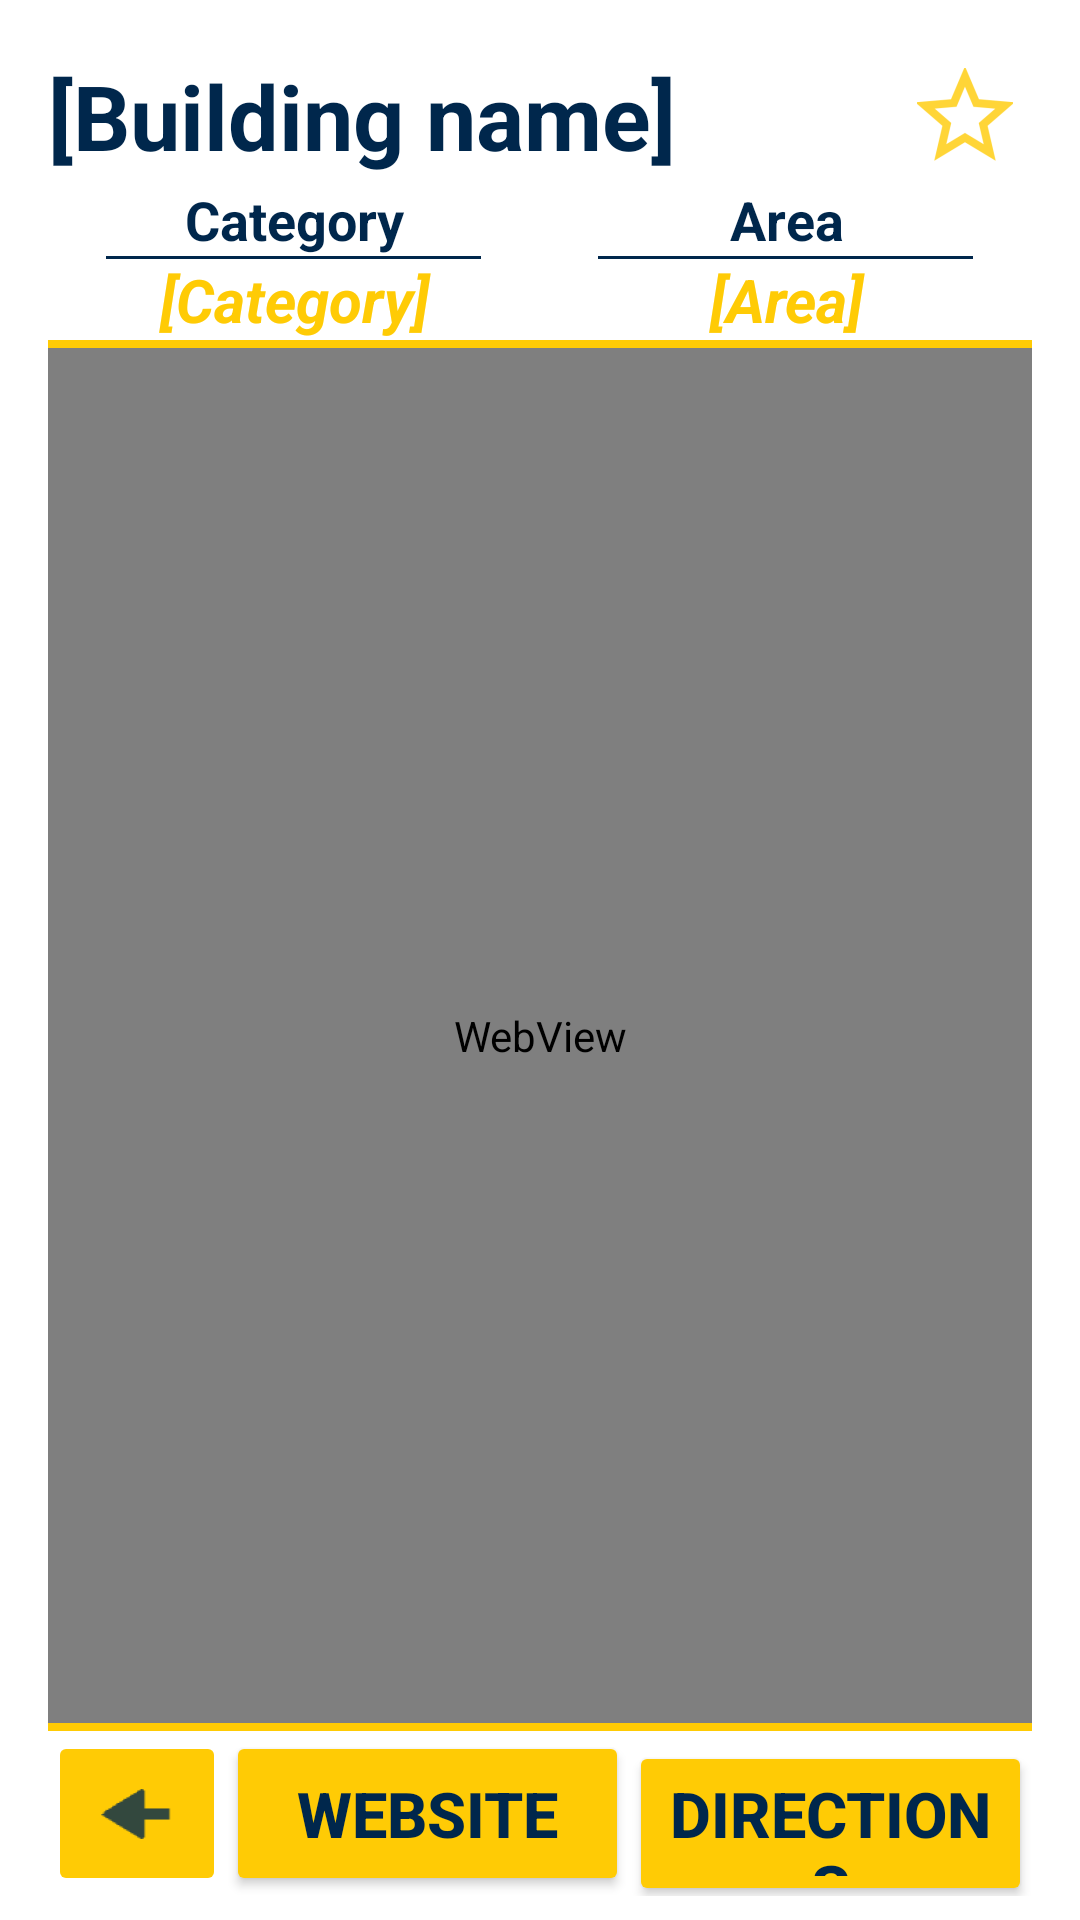

Where to tap for icons on this 1080×1920 app screen, as [x,y]:
back: [137,1813]
empty star: [965,114]
